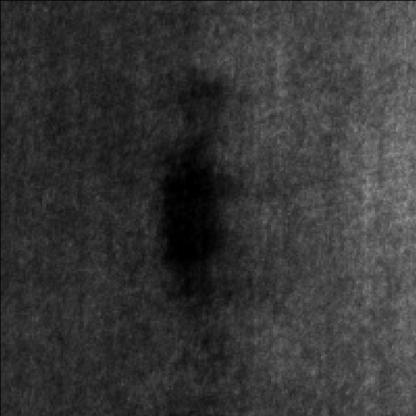patches: (154, 137, 223, 287)
